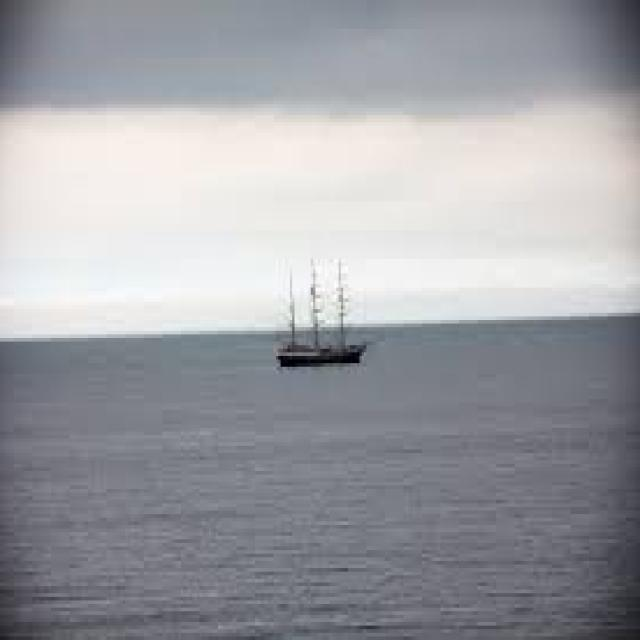fishing boat: (269, 266, 367, 369)
